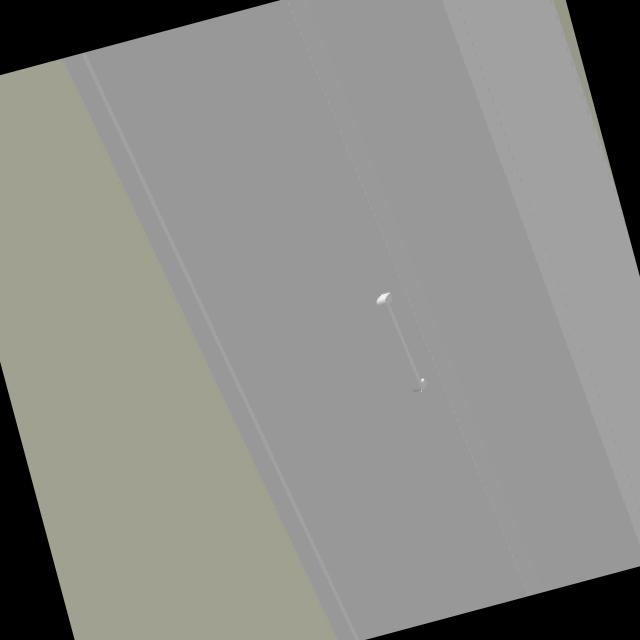shower: (61, 0, 640, 640)
